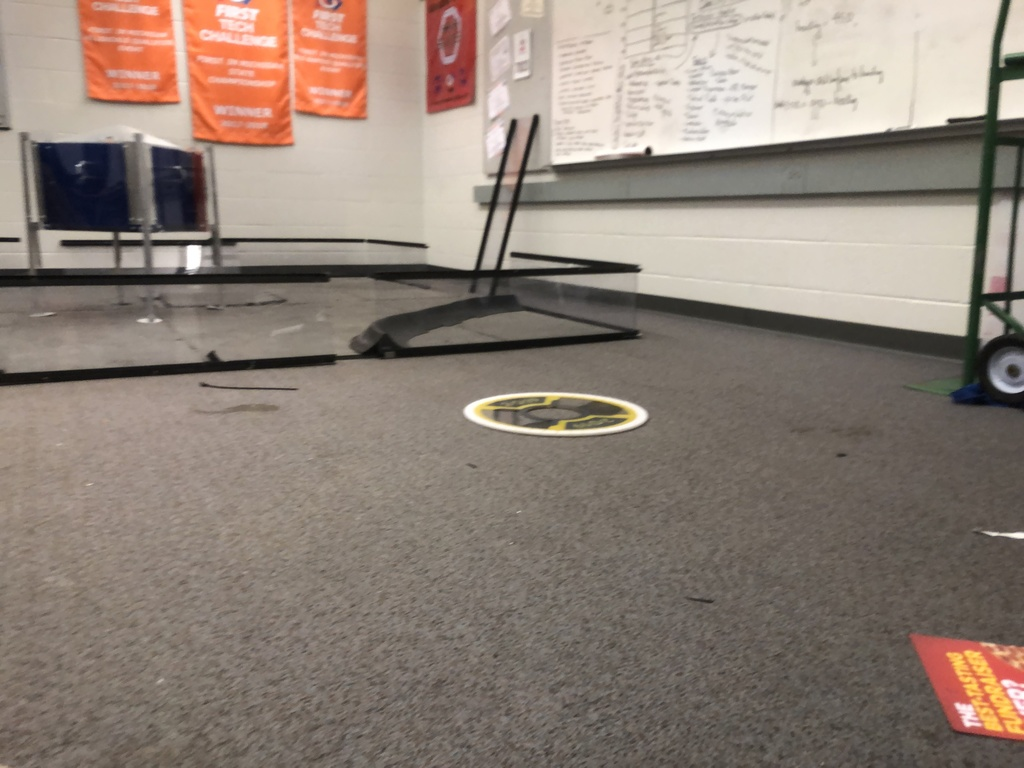hatch_panel: (450, 377, 662, 448)
